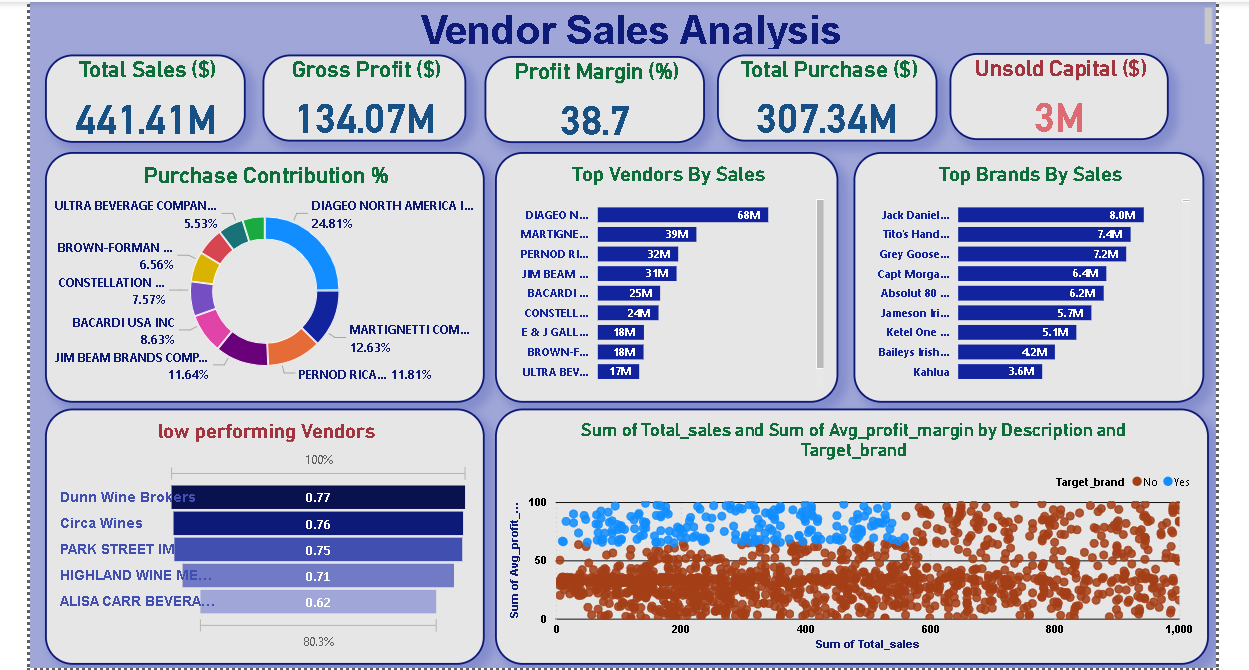

The dashboard page shown, as its layout file describes it:
{"tool":"powerbi","page":{"name":"Page 1","canvas":[1280,720],"ordinal":0},"visuals":[{"type":"textbox","box":[0,0,1280.8,720.6],"z":0},{"type":"card","title":"Total Sales ($)","fields":{"Values":["Sum(vendor_sales_summary.Total_sales_dollars)"]},"box":[16.2,56.7,217,95.5],"z":1000},{"type":"card","title":"Total Purchase ($)","fields":{"Values":["Sum(vendor_sales_summary.Total_purchase_dollars)"]},"box":[741.6,56.7,238,93.9],"z":2000},{"type":"card","title":"Gross Profit ($)","fields":{"Values":["Sum(vendor_sales_summary.Gross_Profit)"]},"box":[251,56.7,220.2,93.9],"z":3000},{"type":"card","title":"Profit Margin (%)","fields":{"Values":["Avg(vendor_sales_summary.Profit_margin)"]},"box":[490.6,58.3,238,93.9],"z":4000},{"type":"card","title":"Unsold Capital ($)","fields":{"Values":["Sum(vendor_sales_summary.UnsoldCapital)"]},"box":[992.6,55.1,236.4,93.9],"z":5000},{"type":"donutChart","title":"Purchase Contribution %","fields":{"Category":["Purchase_Contribution.VendorName"],"Y":["Sum(Purchase_Contribution.Purchase_Contribution %)"]},"box":[16.2,161.9,474.4,270.4],"z":6000},{"type":"clusteredBarChart","title":"Top Vendors By Sales","fields":{"Category":["vendor_sales_summary.VendorName"],"Y":["Sum(vendor_sales_summary.Total_sales_dollars)"]},"box":[502,161.9,370.8,270.4],"z":7000},{"type":"clusteredBarChart","title":"Top Brands By Sales","fields":{"Y":["Sum(vendor_sales_summary.Total_sales_dollars)"],"Category":["vendor_sales_summary.Description"]},"box":[889,161.9,378.9,270.4],"z":8000},{"type":"funnel","title":"low performing Vendors","fields":{"Category":["Low_turnover_vendor.VendorName"],"Y":["Avg(Low_turnover_vendor.Avg_stock_turnover)"]},"box":[16.2,438.8,474.4,276.9],"z":9000},{"type":"scatterChart","fields":{"Category":["Brand_Performance1.Description"],"X":["Sum(Brand_Performance1.Total_sales)"],"Series":["Brand_Performance1.Target_brand"],"Y":["Sum(Brand_Performance1.Avg_profit_margin)"]},"box":[502,438.8,770.8,276.9],"z":10000},{"type":"textbox","box":[0,0,1280.8,55.1],"z":11000}]}

Visuals, with their boxes in screenshot pixels (x1, y1, x2, y2):
textbox: 33,0,1208,661
"Total Sales ($)" card: 47,52,247,140
"Total Purchase ($)" card: 713,52,932,138
"Gross Profit ($)" card: 263,52,465,138
"Profit Margin (%)" card: 483,54,701,140
"Unsold Capital ($)" card: 943,51,1160,137
"Purchase Contribution %" donutChart: 47,149,483,397
"Top Vendors By Sales" clusteredBarChart: 493,149,834,397
"Top Brands By Sales" clusteredBarChart: 848,149,1196,397
"low performing Vendors" funnel: 47,403,483,657
scatterChart - Brand_Performance1.Description x Sum(Brand_Performance1.Total_sales): 493,403,1201,657
textbox: 33,0,1208,51
